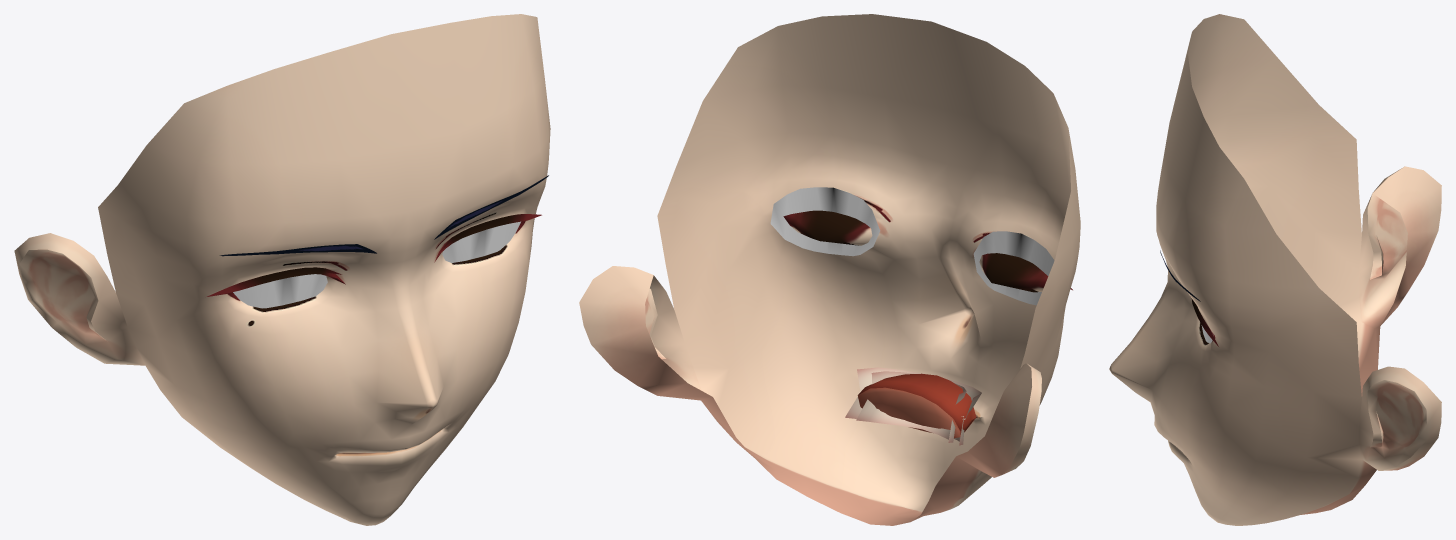
The model's file is Yuzuru.fbx.
3 views of the same model, side by side, from view 1: azimuth 30°, elevation 25°; view 2: azimuth 150°, elevation 25°; view 3: azimuth 270°, elevation 25° (orthographic). The views are drawn at different scales.
Parts seen in each view (by area): view 1: M_Head, M_Eye_B_Def, M_Mth_B_Def, M_PupALL_R_A_Def, M_PupALL_L_A_Def, M_Brw_B_Def; view 2: M_Head, M_Eye_B_Def, M_Mth_B_Def, M_PupALL_L_A_Def, M_PupALL_R_A_Def; view 3: M_Head, M_Eye_B_Def, M_Mth_B_Def.
Part boxes in pixels (bbox=[...]): M_Head: bbox=[14, 14, 550, 401]; M_Eye_B_Def: bbox=[152, 129, 550, 414]; M_Mth_B_Def: bbox=[146, 354, 508, 525]; M_PupALL_R_A_Def: bbox=[233, 274, 327, 308]; M_PupALL_L_A_Def: bbox=[442, 221, 520, 262]; M_Brw_B_Def: bbox=[219, 175, 548, 256]; M_Head: bbox=[579, 14, 1080, 477]; M_Eye_B_Def: bbox=[708, 133, 1080, 404]; M_Mth_B_Def: bbox=[701, 310, 1041, 525]; M_PupALL_L_A_Def: bbox=[770, 187, 880, 256]; M_PupALL_R_A_Def: bbox=[973, 231, 1054, 305]; M_Head: bbox=[1156, 14, 1441, 470]; M_Eye_B_Def: bbox=[1109, 111, 1270, 452]; M_Mth_B_Def: bbox=[1112, 322, 1380, 525].
Size of the model in its own units: 0.1763 by 0.1752 by 0.1129.
Materials: 5 (3 with a texture image).
